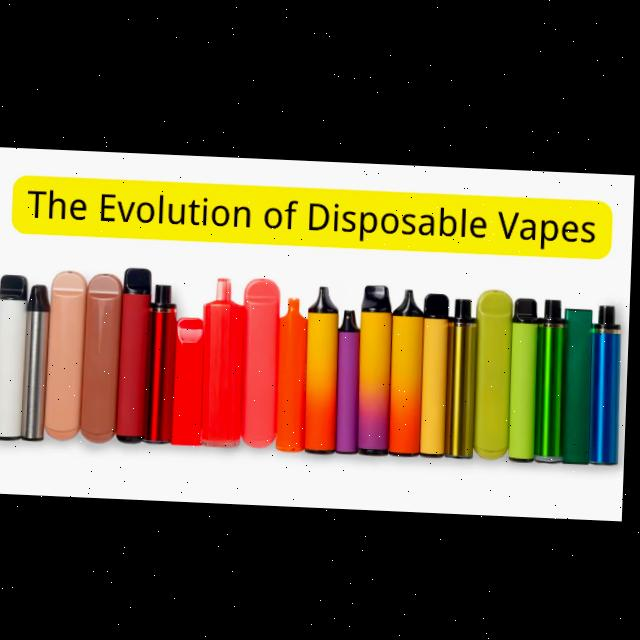vape: (201, 275, 246, 447), (48, 270, 90, 442), (475, 285, 517, 457), (242, 276, 284, 447), (84, 272, 125, 444), (359, 281, 396, 454), (306, 283, 343, 452), (392, 285, 428, 454), (120, 266, 154, 444), (591, 300, 626, 461), (538, 294, 571, 459), (146, 283, 179, 444), (447, 294, 480, 455), (279, 295, 312, 451), (511, 293, 542, 459), (563, 303, 596, 458), (0, 274, 30, 442), (423, 290, 453, 456), (26, 284, 53, 442), (175, 315, 207, 445), (338, 307, 365, 453)
